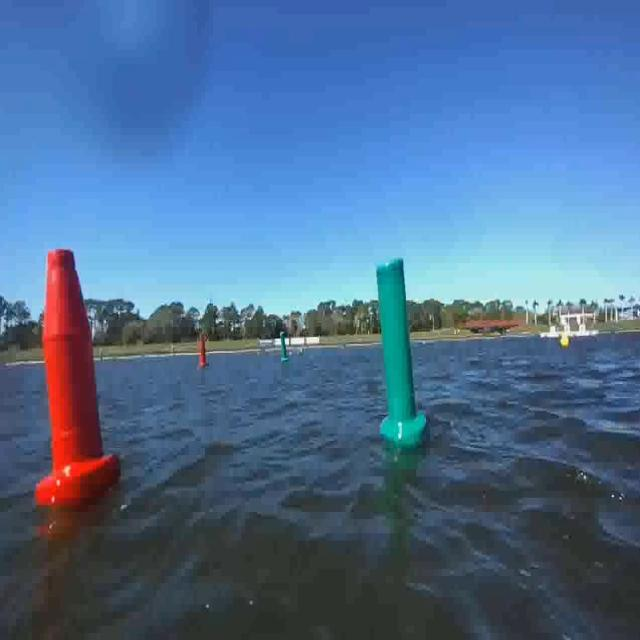green-column-buoy: (372, 257, 423, 447), (280, 334, 290, 364)
red-column-buoy: (36, 245, 121, 506), (199, 338, 210, 368)
yellow-buoy: (560, 335, 570, 351)
